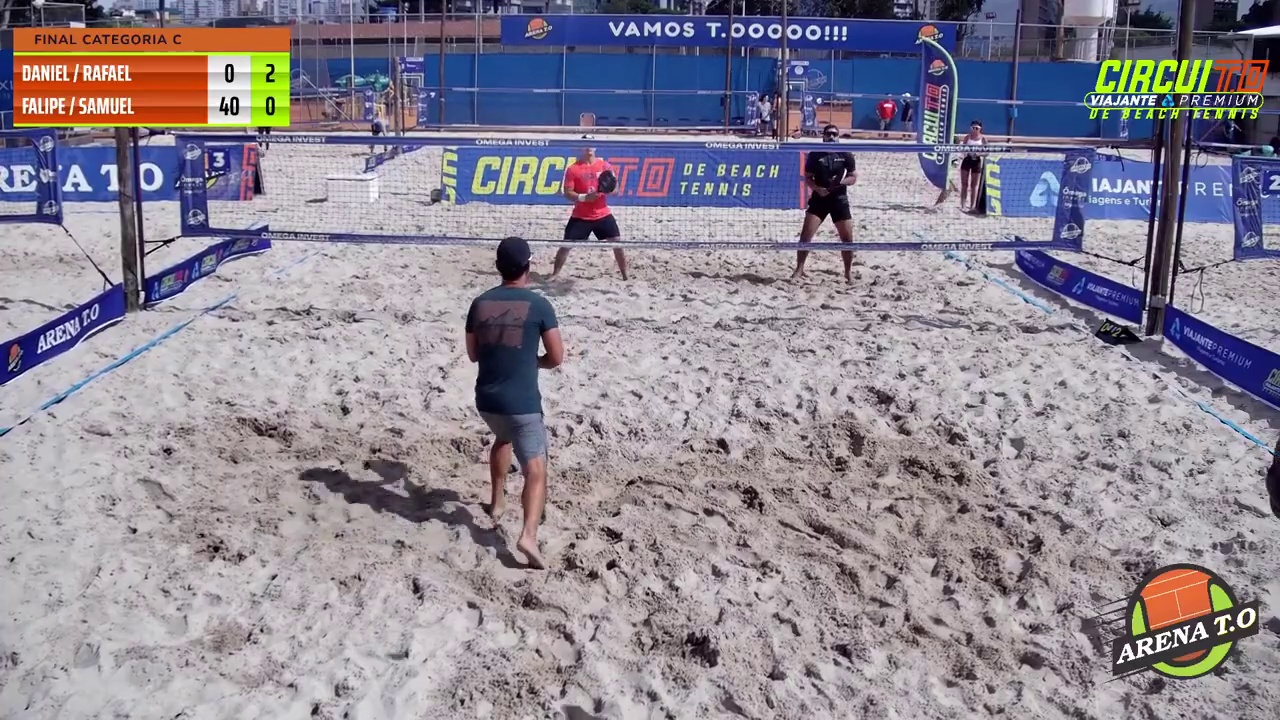court_line: (638, 0, 811, 295)
